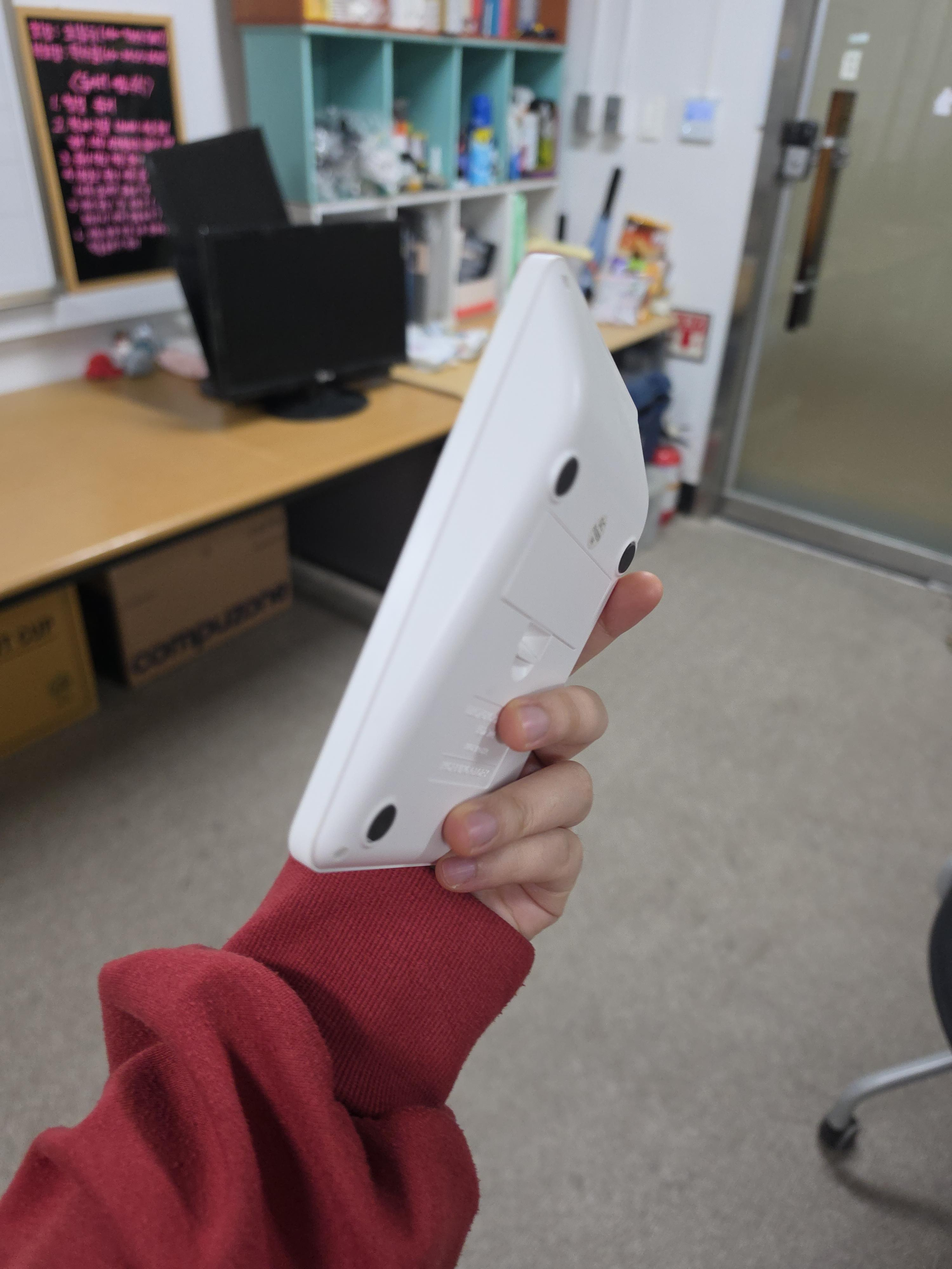calculator: (288, 252, 649, 873)
